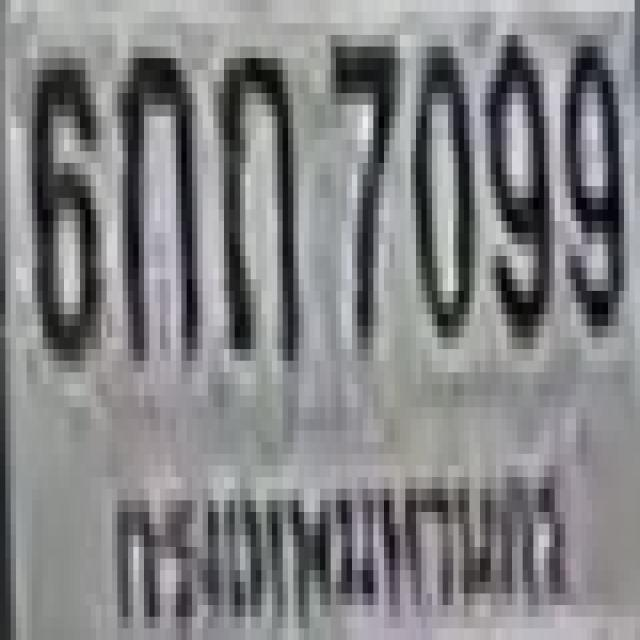0: (411, 35, 469, 326)
6: (27, 47, 96, 349)
7: (325, 29, 395, 343)
9: (482, 29, 546, 332), (560, 23, 619, 326)
A01: (112, 41, 197, 355)
A22: (213, 35, 299, 349)
BKK: (104, 431, 572, 640)
